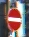No entry: (5, 6, 24, 32)
